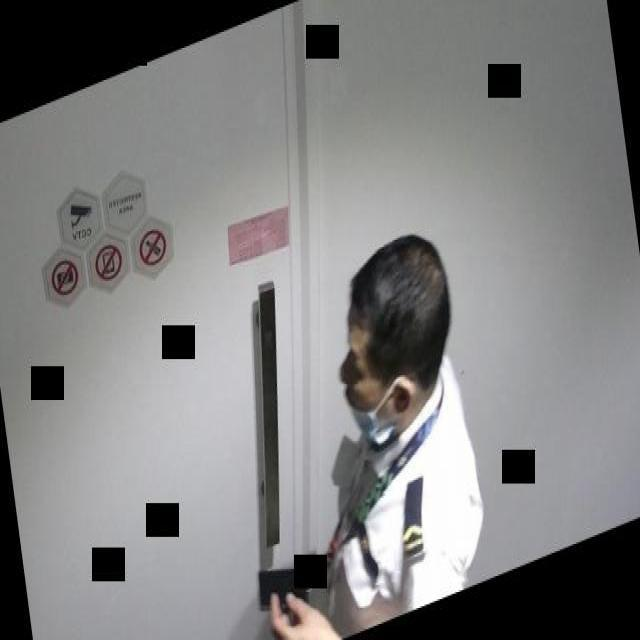hairnet: (339, 322, 400, 448)
